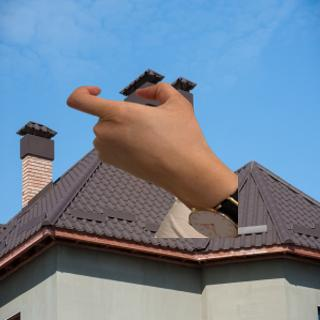HATE: (64, 77, 214, 190)
